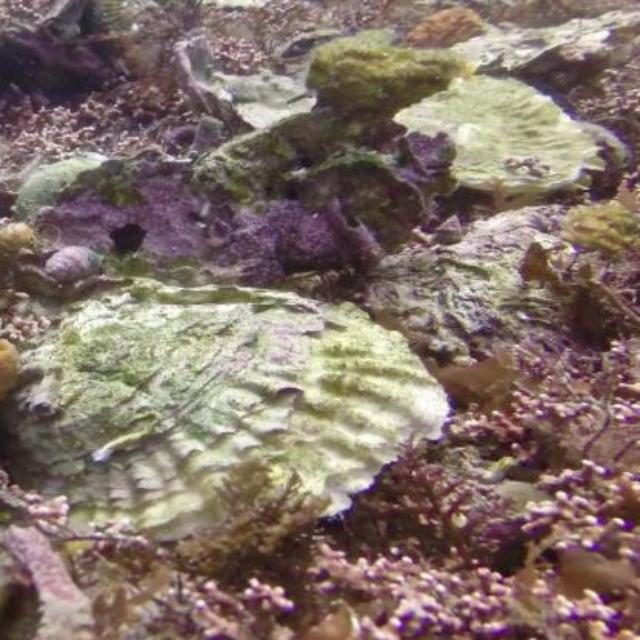Oyster-Closed: (9, 278, 459, 550), (405, 73, 593, 193)
